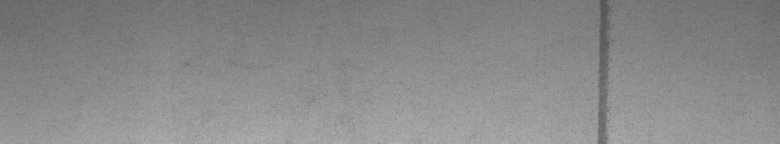hd: (592, 4, 614, 136)
